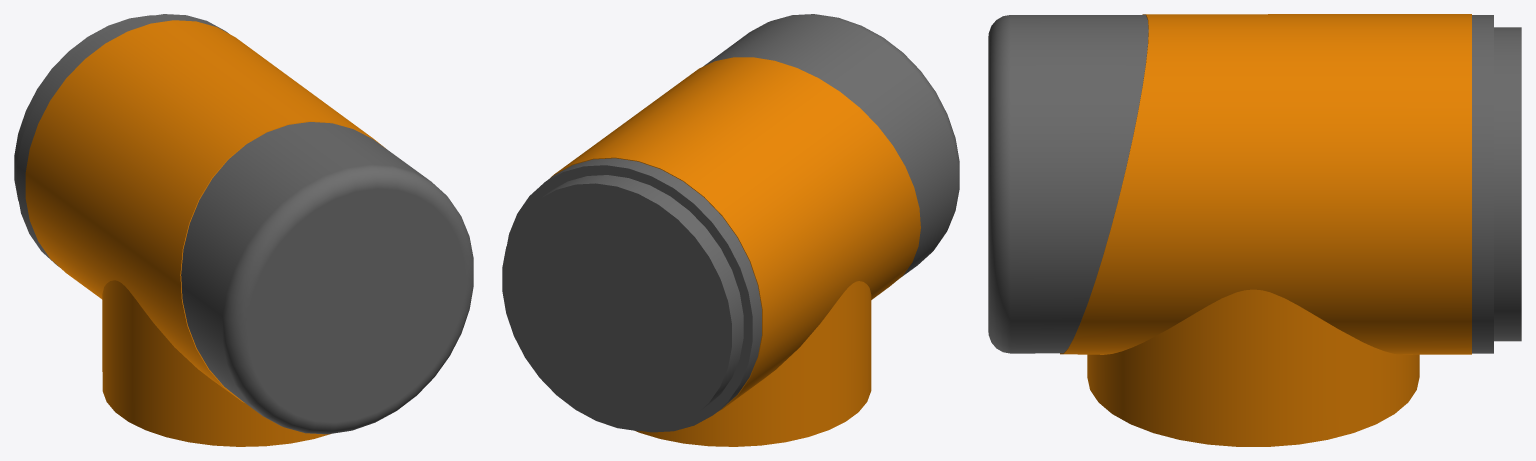
3 views of the same model, side by side, from view 1: azimuth 30°, elevation 25°; view 2: azimuth 150°, elevation 25°; view 3: azimuth 270°, elevation 25° (orthographic). The views are drawn at different scales.
Visible parts, largest first — view 1: NONE-lib; view 2: NONE-lib; view 3: NONE-lib.
Boxes of the visible parts, bbox=[...] form: NONE-lib: bbox=[14, 14, 473, 446]; NONE-lib: bbox=[502, 14, 959, 446]; NONE-lib: bbox=[988, 14, 1521, 446].
Size of the model in its own units: 0.077 by 0.0865 by 0.1203.
